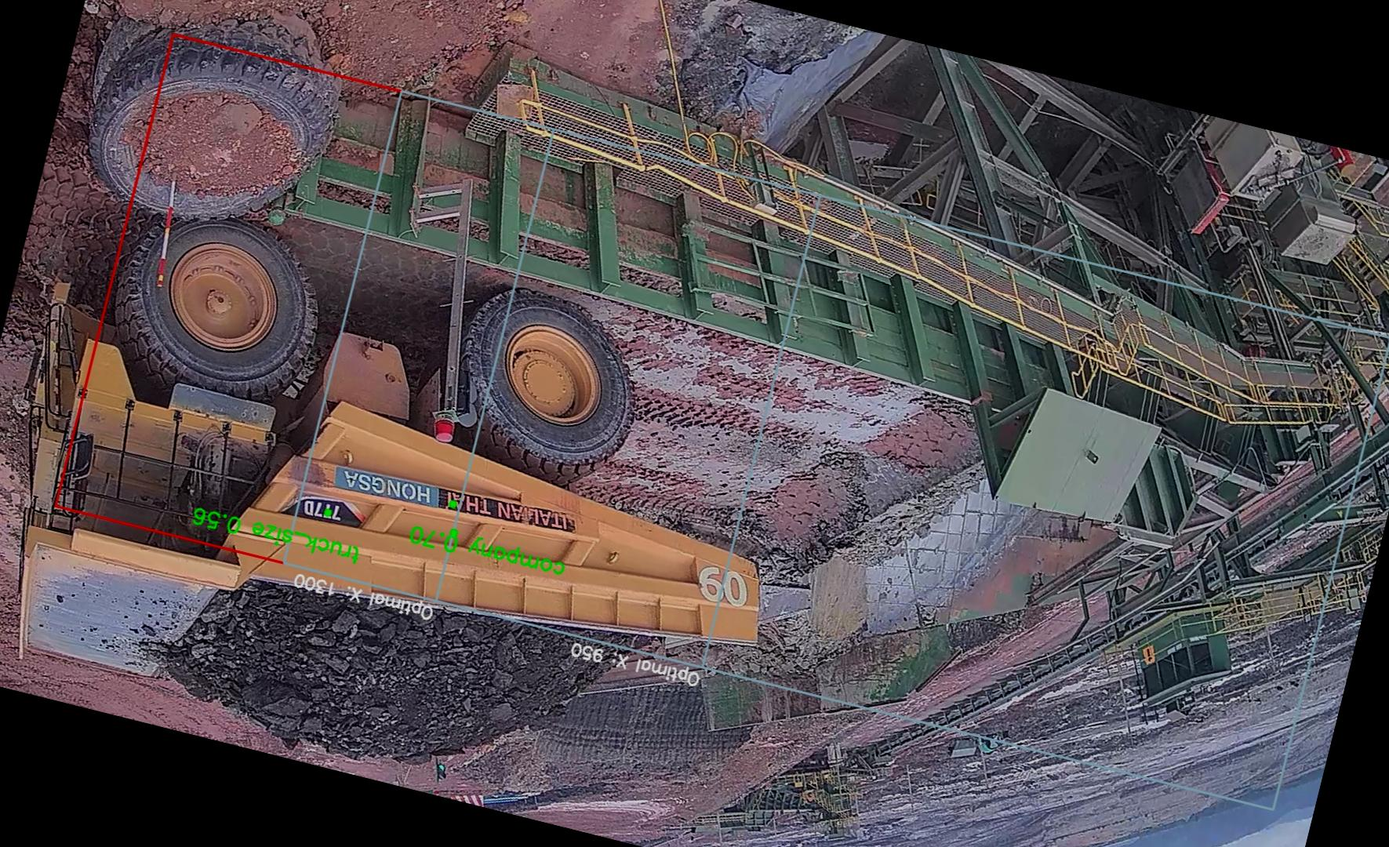company: (323, 448, 580, 545)
full_load: (172, 530, 556, 800)
mining_truck: (0, 169, 837, 847)
tail_number: (685, 550, 758, 623)
truck_size: (279, 488, 369, 539)
